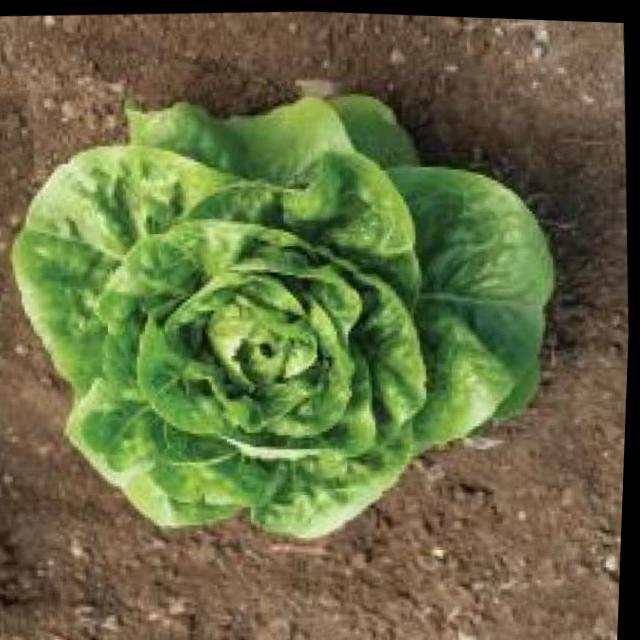Mature: (14, 96, 553, 538)
